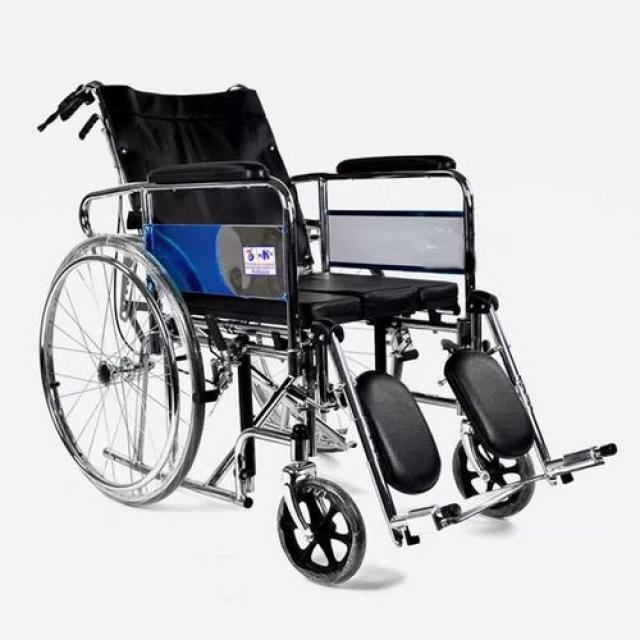wheelchairs: (38, 80, 615, 583)
